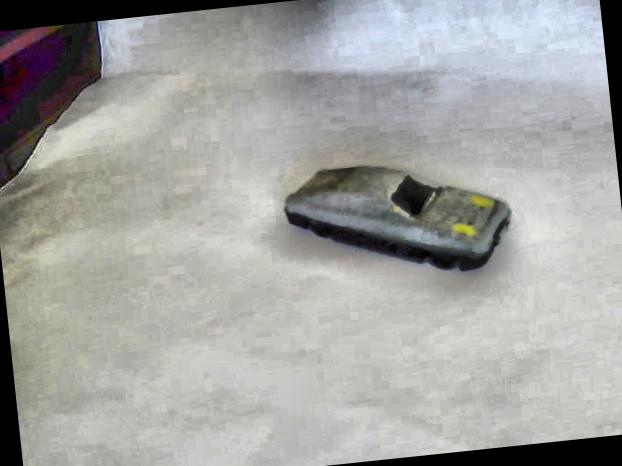normal_car: (274, 142, 521, 291)
